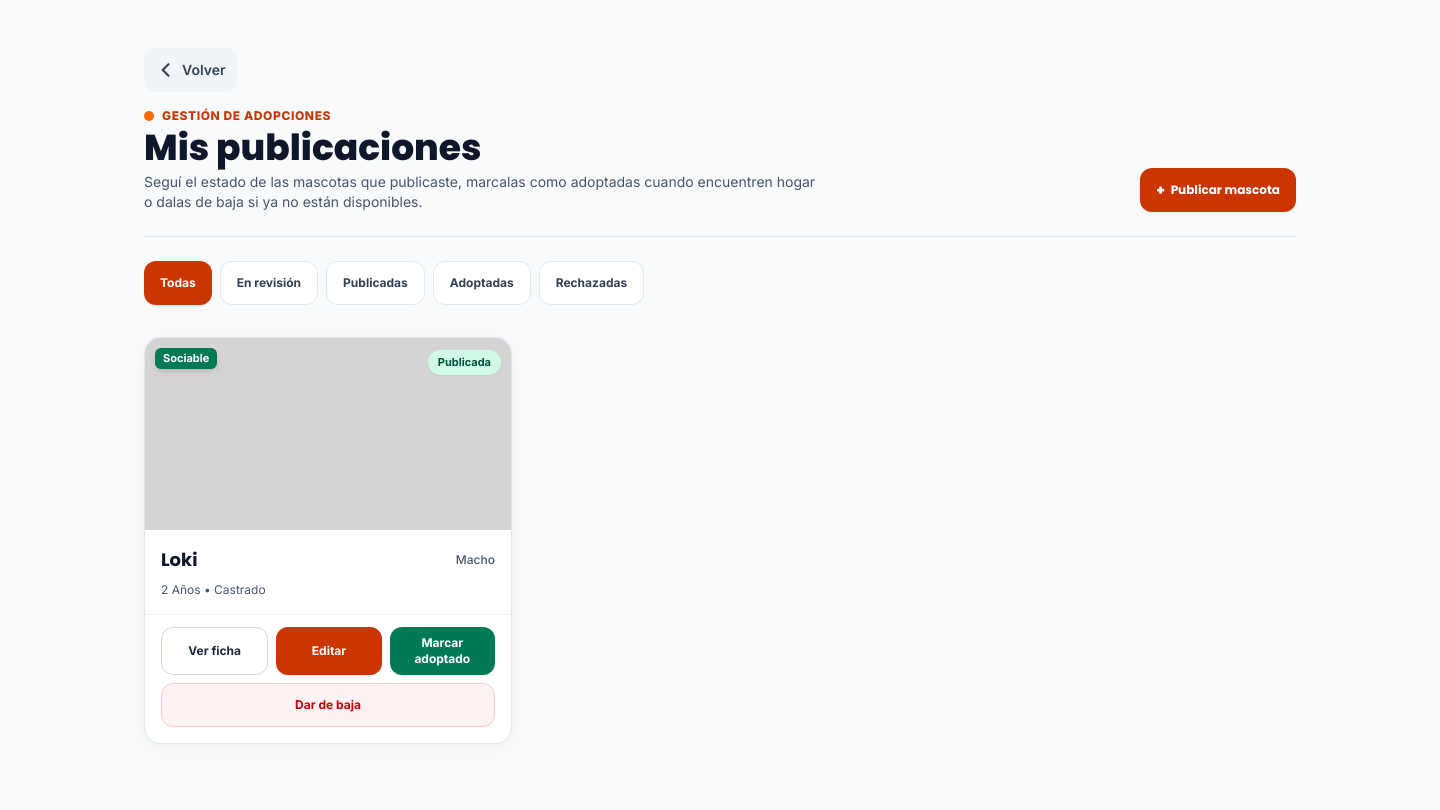
Test: MyPetsView › permite marcar una mascota publicada como adoptada con nota opcional y recarga el listado
Later steps or results of the test are not shown.
Check: the heading "Loki" is shown, box [161,546,198,574]
Click the button "Marcar adoptado". click: (442, 651)
box: [390,627,495,675]
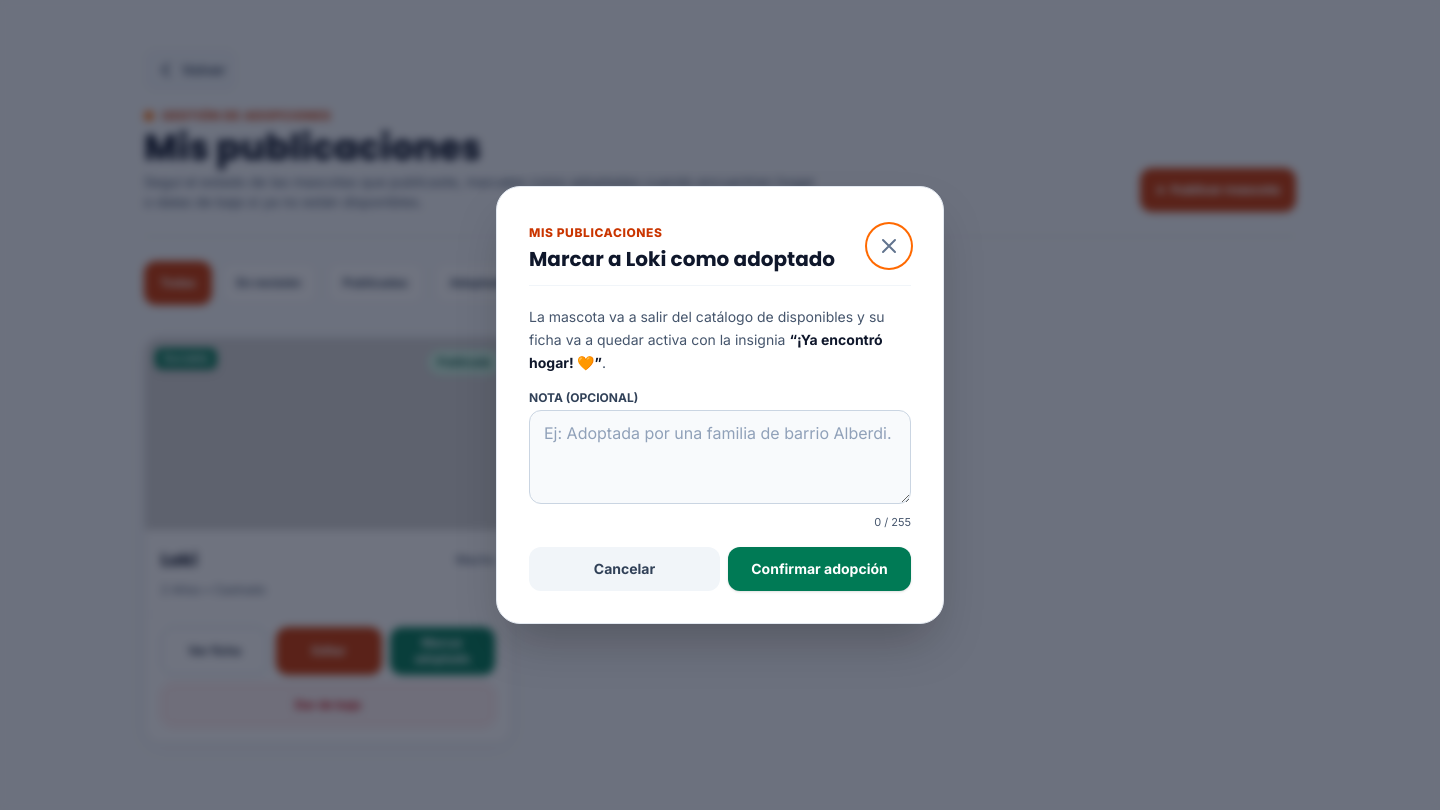
Check: the dialog "Marcar a Loki como adoptado" is shown
Type "Se fue con una familia en Alberdi" into the text box labelled "Nota (opcional)". click: (720, 457)
box: [529,410,911,504]
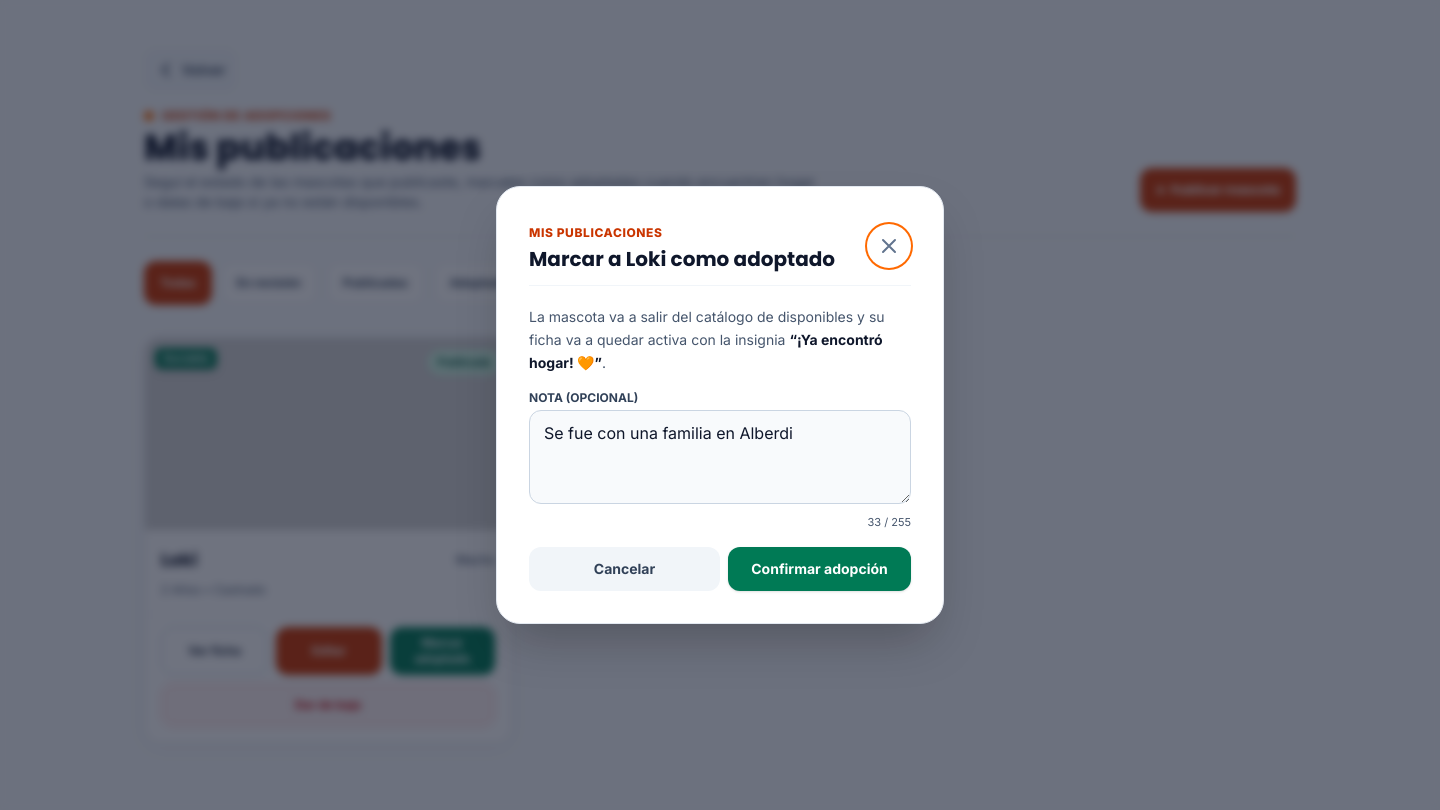
Click the button "Confirmar adopción". click: (820, 569)
box: [728,547,911,591]
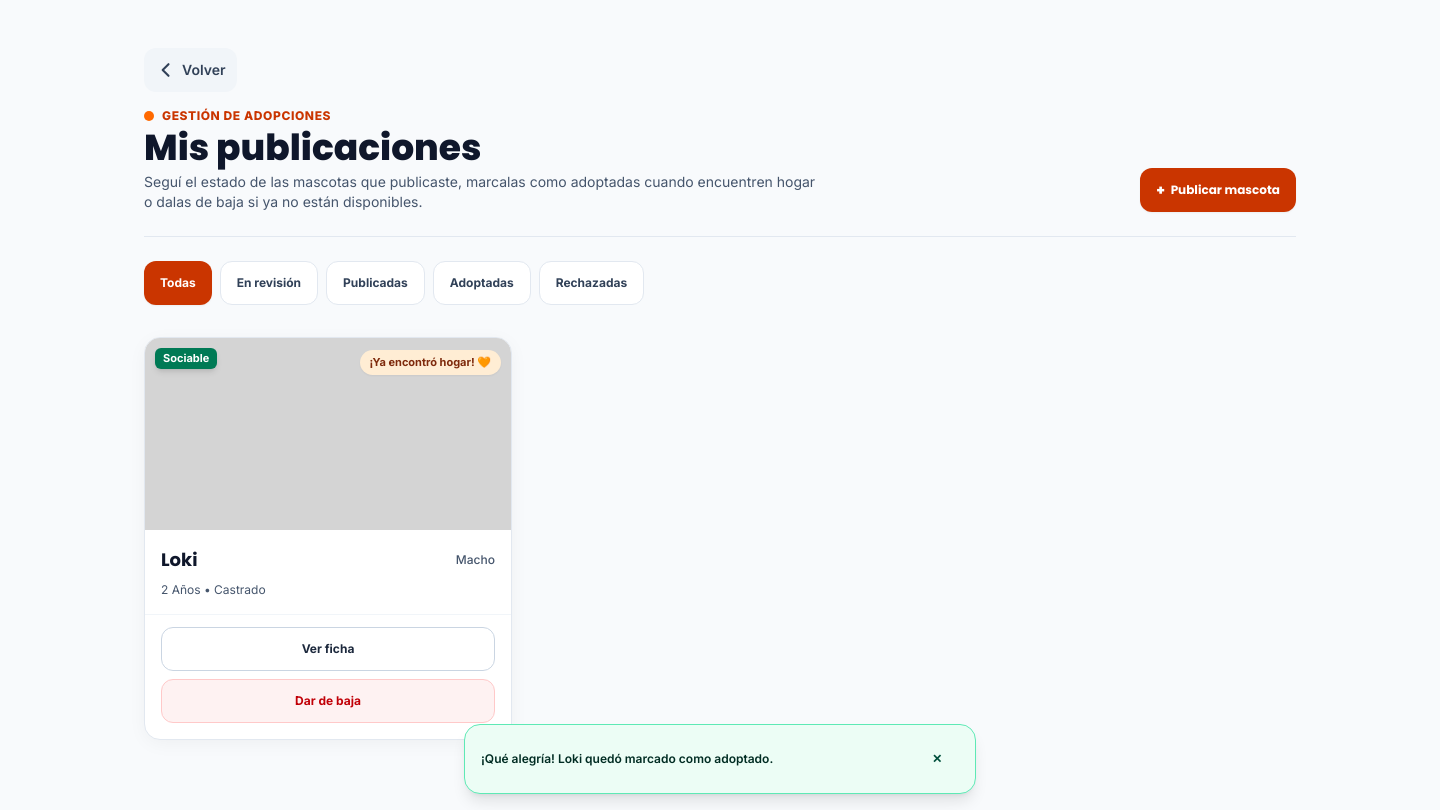
Check: the text "¡Qué alegría! Loki quedó marcado como adoptado." is shown, box [481,751,773,767]
